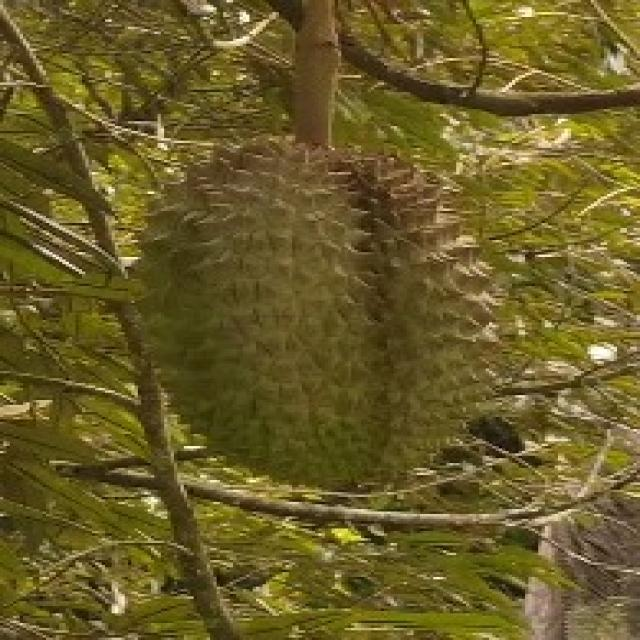mature: (133, 140, 504, 504)
